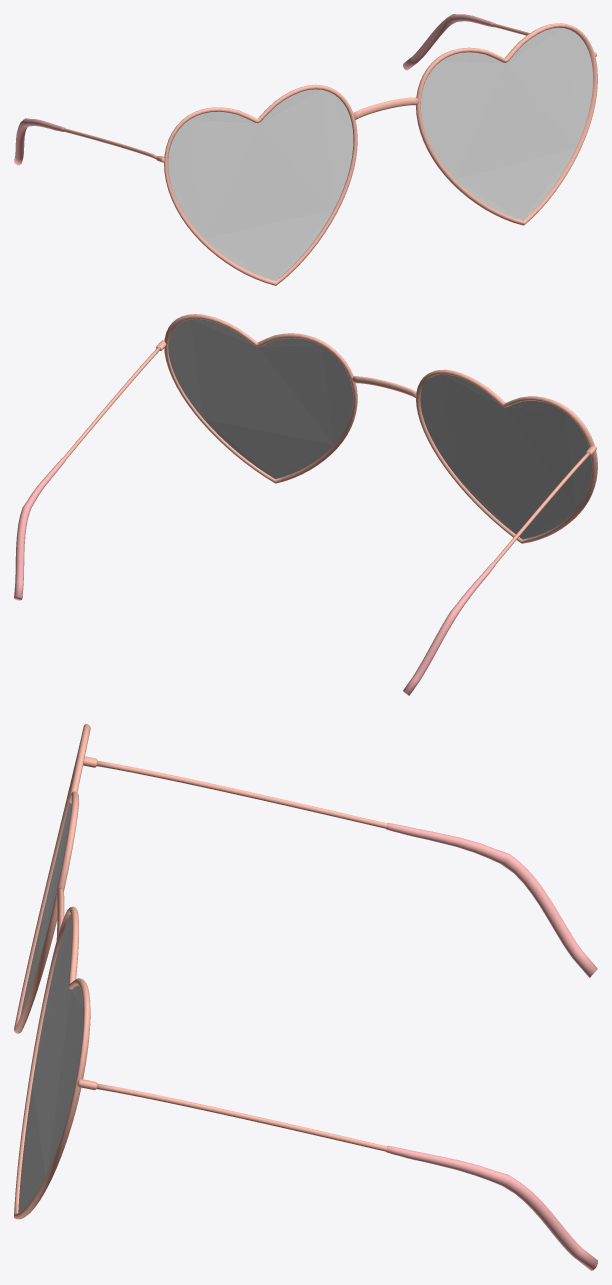
Rendered from heartGlasses.glb.
3 renders of one model, top to bottom at view 1: azimuth 30°, elevation 25°; view 2: azimuth 150°, elevation 25°; view 3: azimuth 270°, elevation 25°, orthographic. The views are drawn at different scales.
Parts seen in each view (by area): view 1: Circle.002_3, Cylinder_6, BezierCurve_2, Cylinder.001_5; view 2: Circle.002_3, Cylinder_6, BezierCurve_2, Cylinder.001_5; view 3: Circle.002_3, Cylinder_6, BezierCurve_2, Cylinder.001_5.
Part boxes in pixels (x1,y1,x2,y2): Circle.002_3: (168, 28, 592, 280); Cylinder_6: (164, 23, 597, 285); BezierCurve_2: (14, 14, 495, 165); Cylinder.001_5: (63, 23, 529, 158); Circle.002_3: (168, 319, 591, 539); Cylinder_6: (164, 314, 597, 543); BezierCurve_2: (14, 457, 495, 695); Cylinder.001_5: (64, 347, 589, 563); Circle.002_3: (18, 802, 83, 1212); Cylinder_6: (14, 724, 90, 1219); BezierCurve_2: (386, 823, 597, 1270); Cylinder.001_5: (96, 760, 387, 1151).
Bounding box in the file's own units: 4.73 × 1.8 × 3.56.
